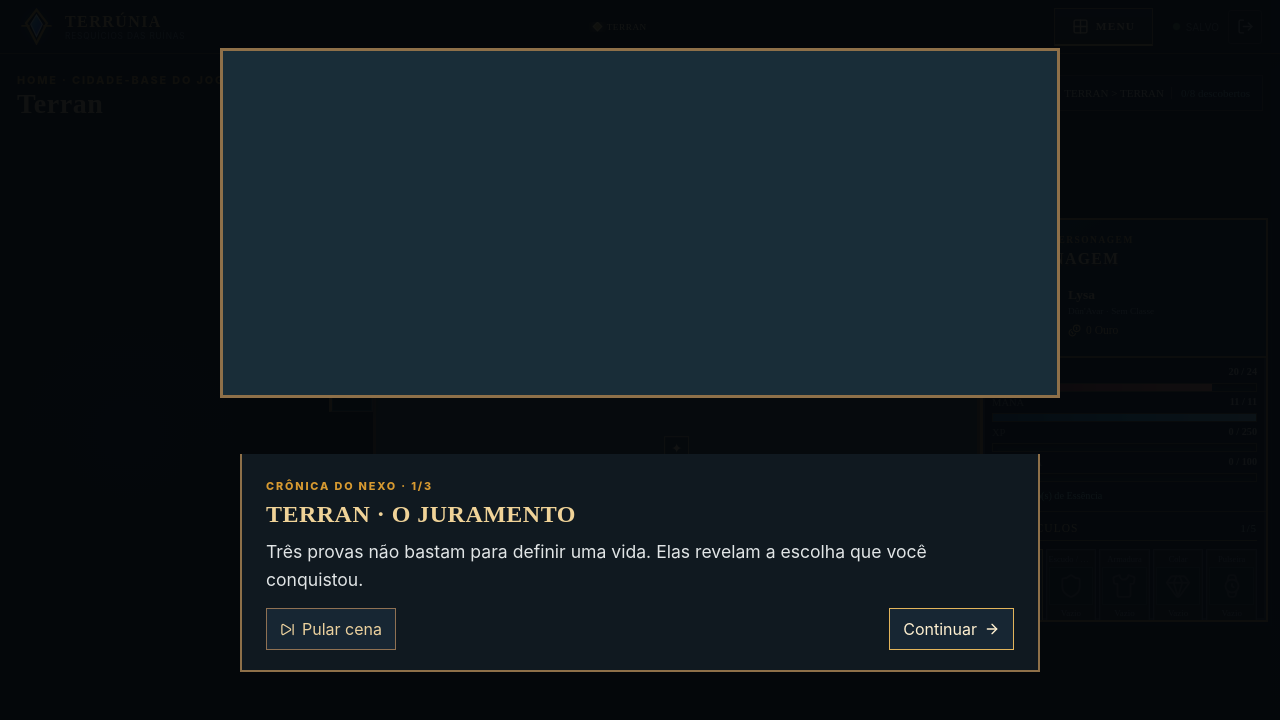
Test: interfaces de Terran › apresenta o juramento apenas após entrar no Clã, sem trocar a cena
Expected: the picture named "Terran vista superior 3/4" is shown, [376, 221, 977, 619]
What coordinates should you click on to do the following:
click the button "Pular cena"
I would click on:
 (331, 629)
Its box is [266, 608, 396, 650].
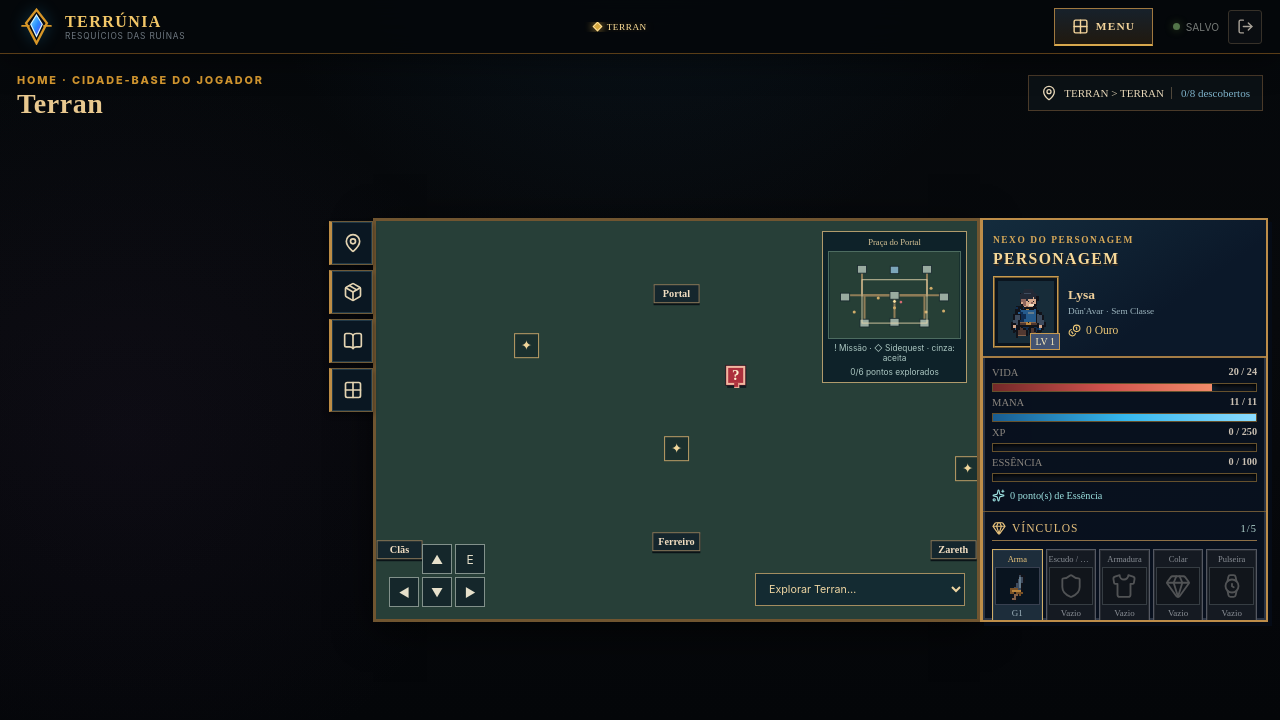
Expected: the picture named "Terran vista superior 3/4" is shown, [376, 221, 977, 619]
Expected: the heading "TERRAN · O JURAMENTO" is gone
